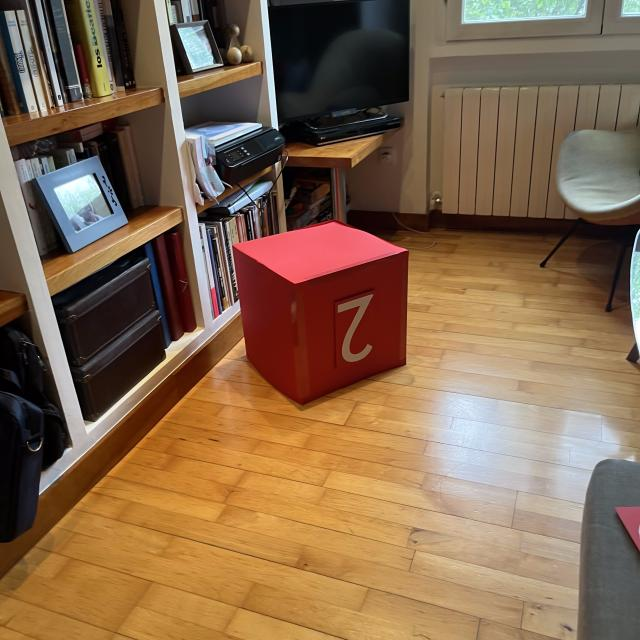box: (228, 216, 412, 406)
